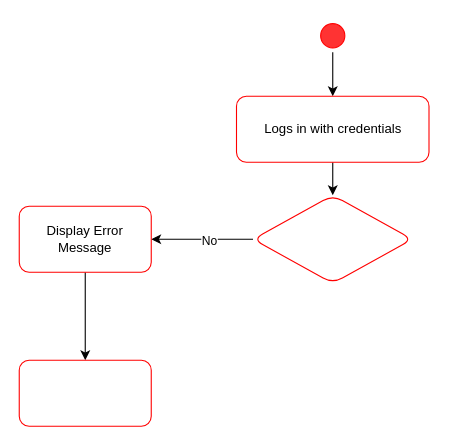
This 449x446 diagram has some shape labels left out. The centre of each missing label's shape, as x and y in pixels:
Credentials Verified?: point 332,238
Re-enter Credentials: point 84,392
